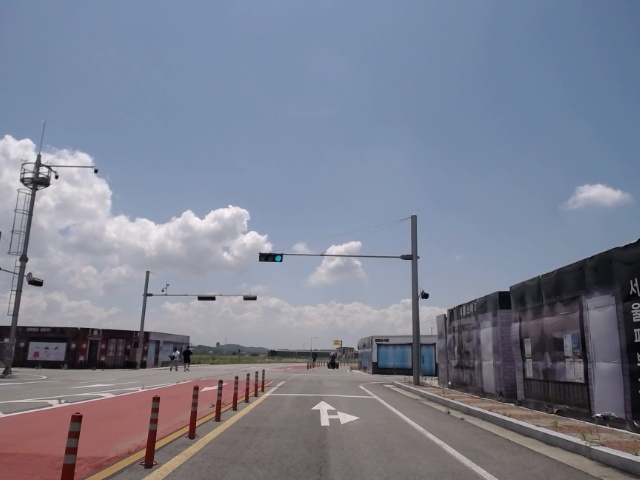green_3: (260, 254, 283, 262)
